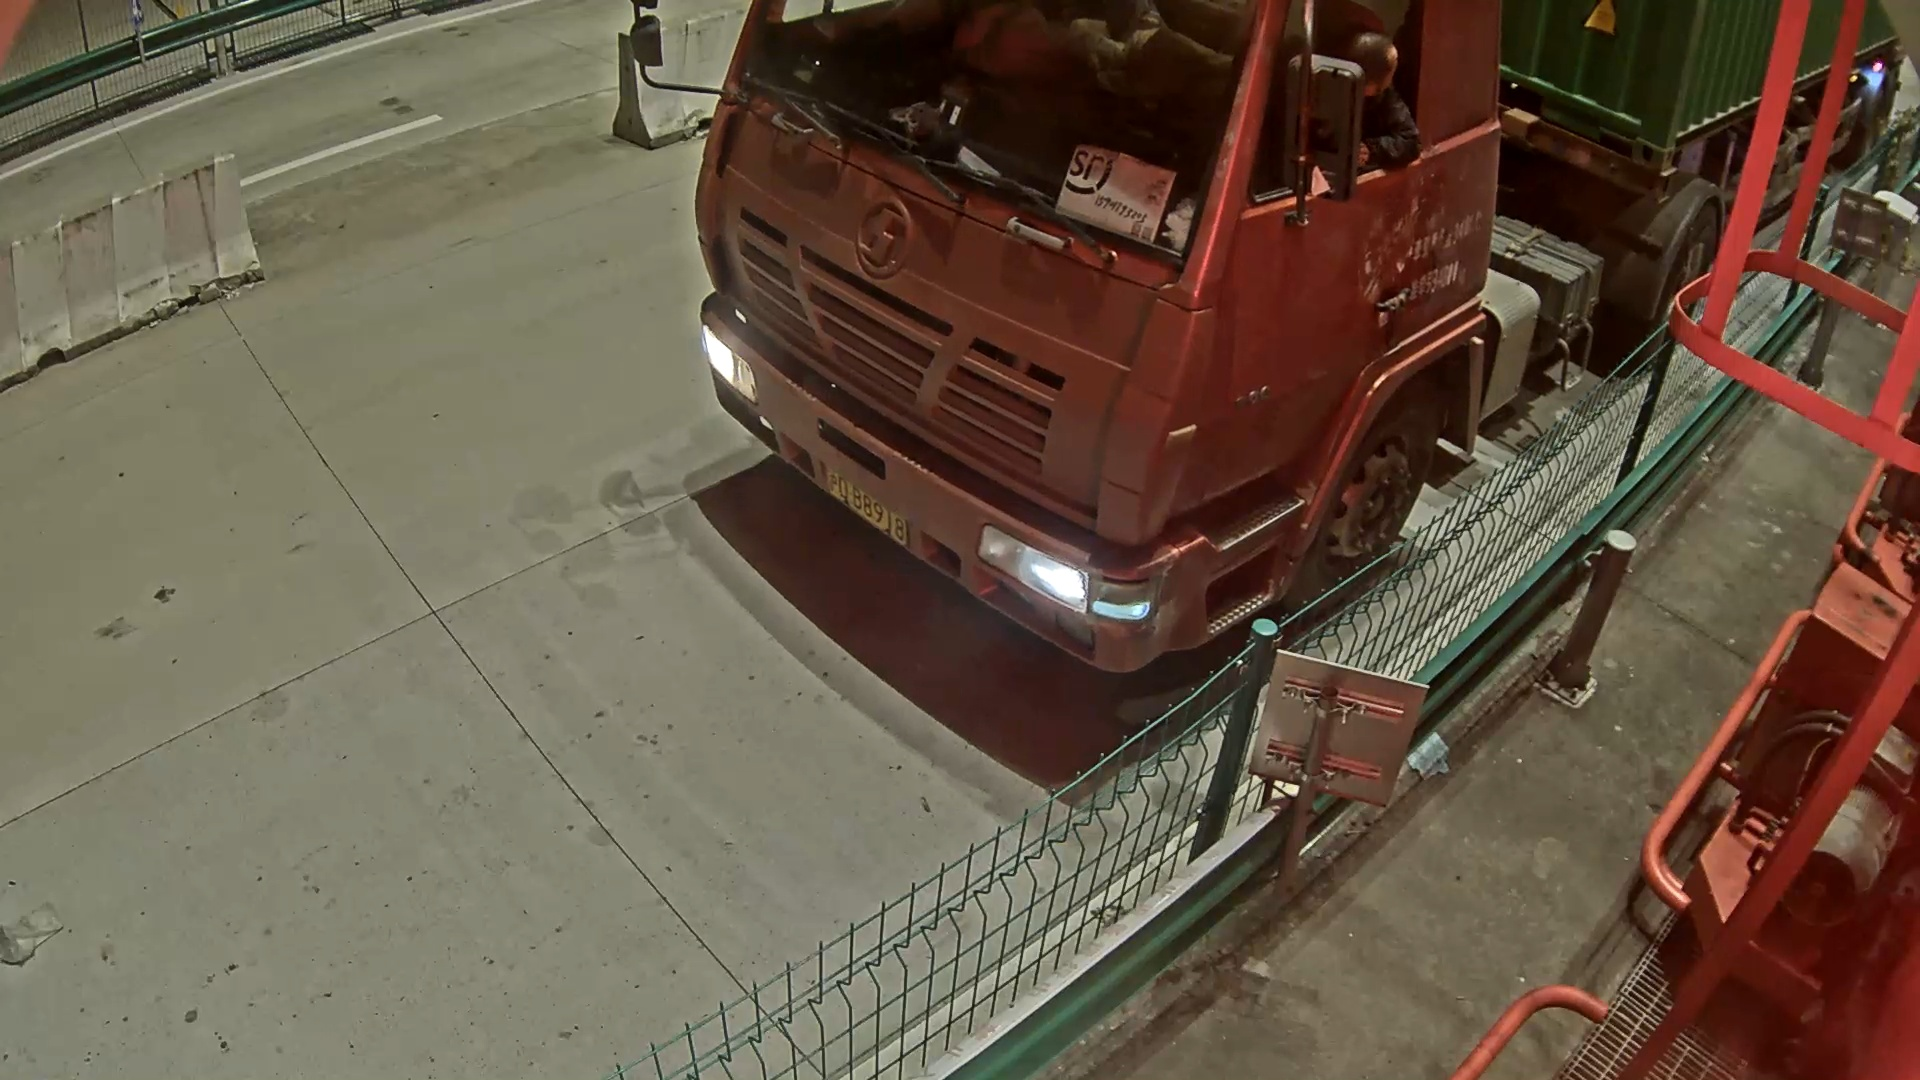head: (693, 1, 1498, 676)
plate: (824, 461, 906, 541)
